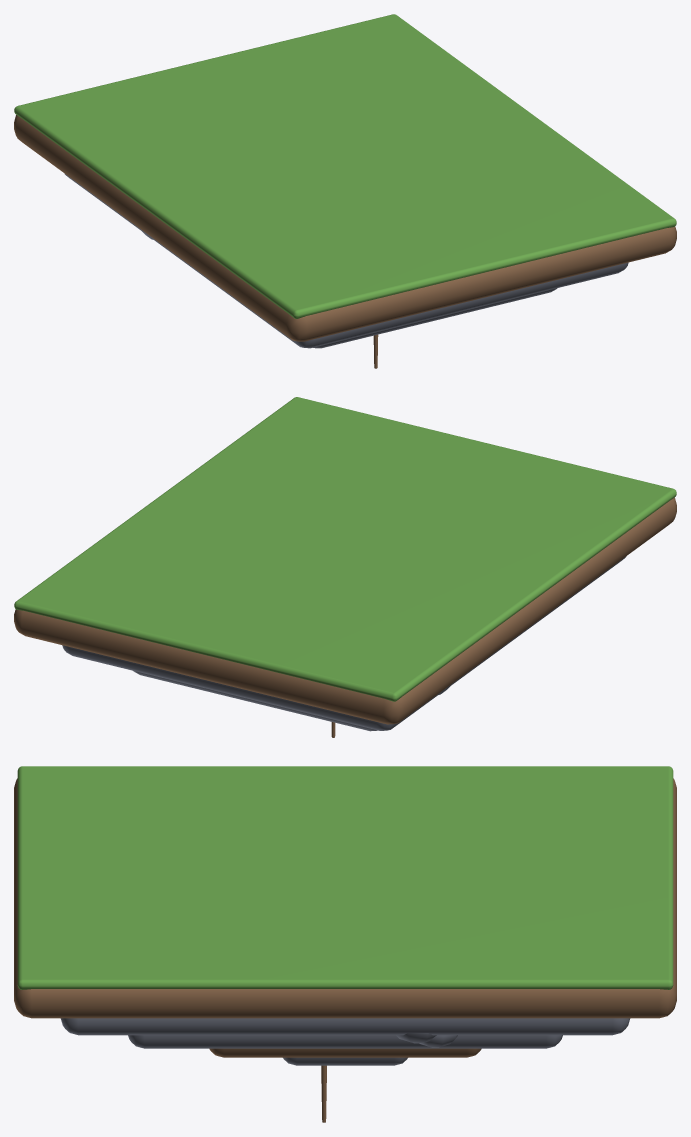
File: island_v2.glb
3 views of the same model, one above another, from view 1: azimuth 30°, elevation 25°; view 2: azimuth 150°, elevation 25°; view 3: azimuth 270°, elevation 25° (orthographic). The views are drawn at different scales.
Parts seen in each view (by area): view 1: Cube; view 2: Cube; view 3: Cube.
Part boxes in pixels (x1,y1,x2,y2): Cube: [14, 14, 676, 368]; Cube: [14, 397, 676, 737]; Cube: [14, 766, 676, 1122].
Bounding box in the file's own units: 7.32 × 3.68 × 9.32.
